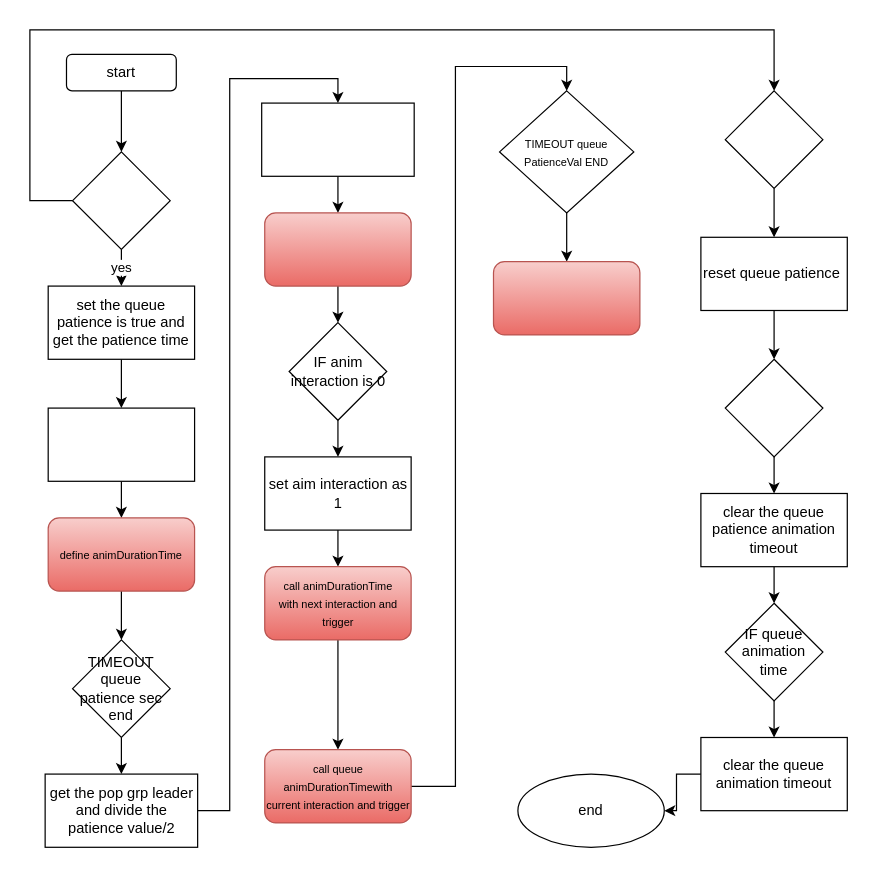
The diagram is 869 pixels wide and 869 high, and some of its shapes have lost their labels. Here are the shapes that lost their labels. From the top down, the centre of each, then its label:
At [337,139]: "construct the animation req for queue patience".
At [773,139]: "ELSE".
At [120,200]: "IF queue patience is false".
At [337,249]: "call setAnimation and slab time".
At [566,297]: "call exitGrpFromWaitPoint for grp move to exit point".
At [773,407]: "IF queue patience time".
At [121,444]: "get the current time".
